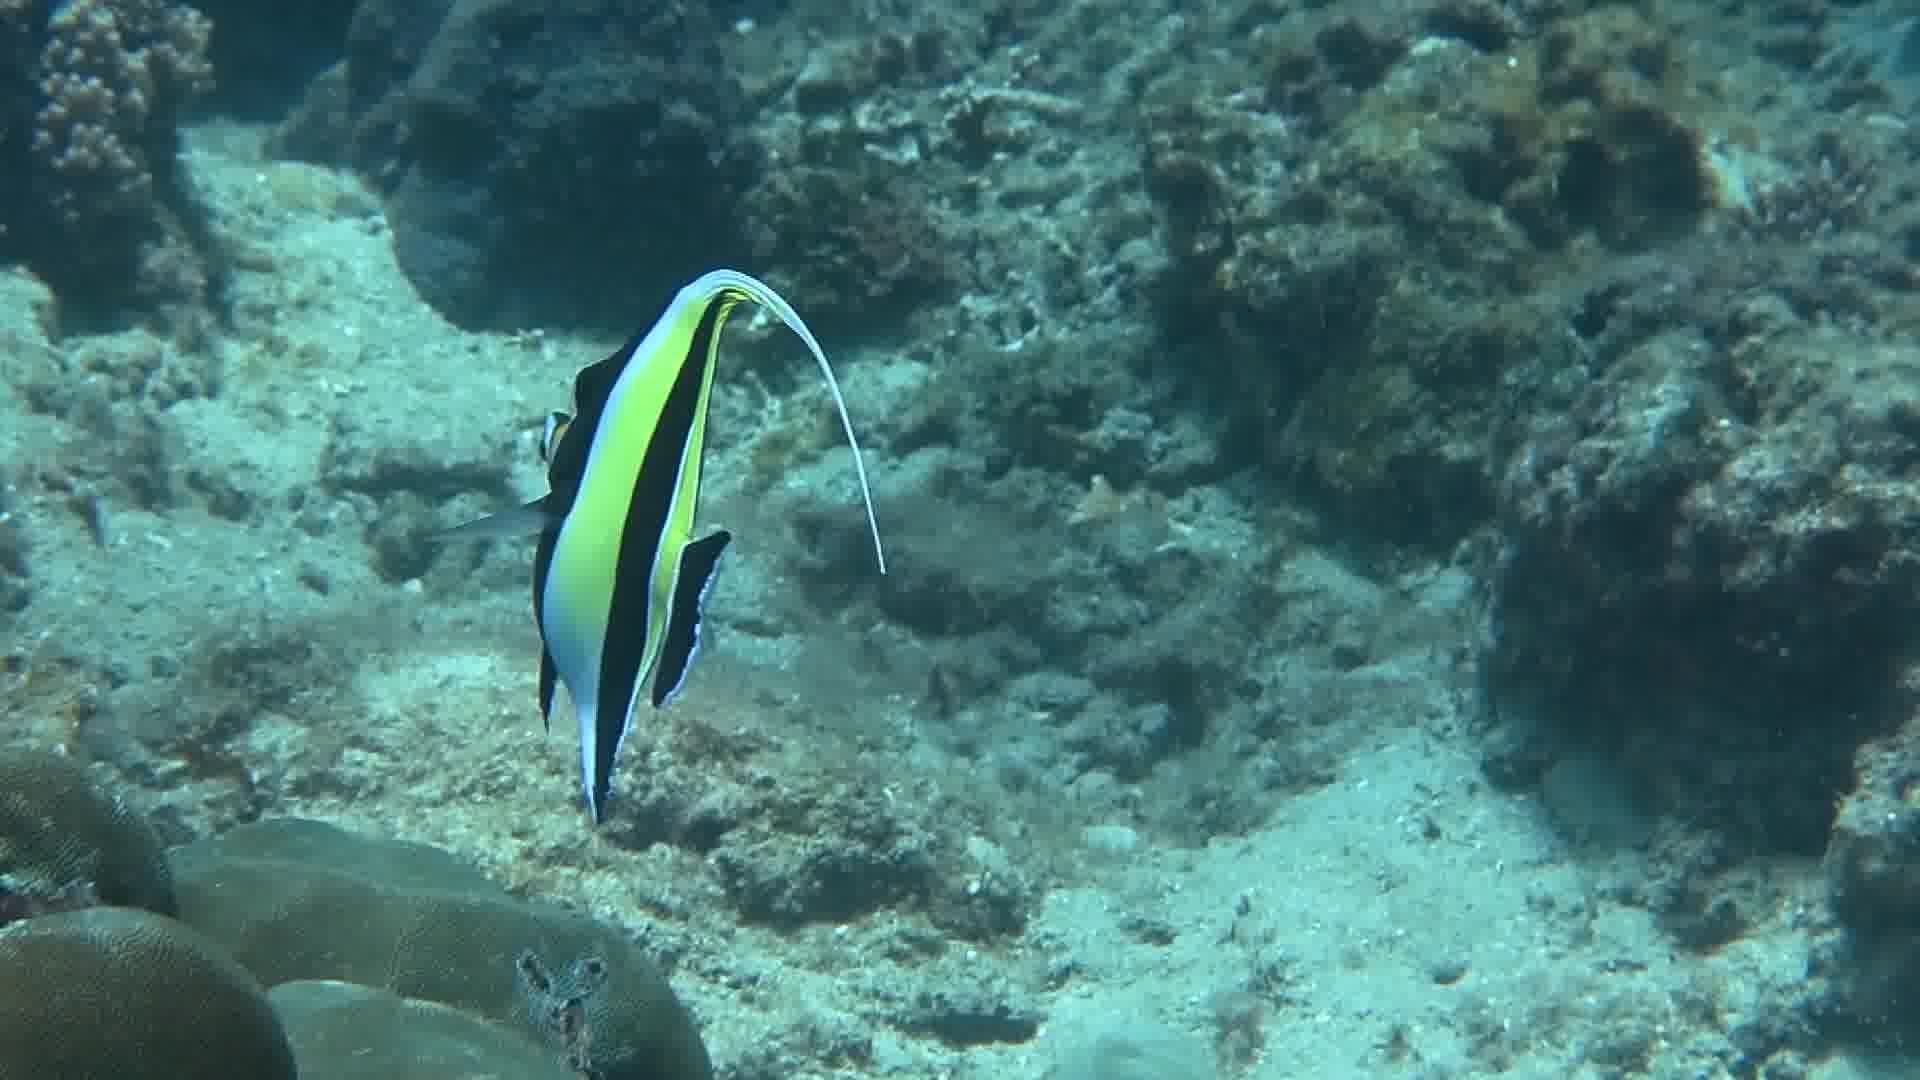Zanclus cornutus: (522, 249, 723, 790)
